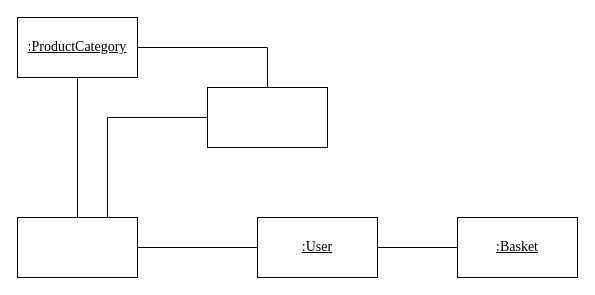
Some shapes in this 595 by 295 pixel diagram are drawn without their labels. Here are the shapes that lost their labels. From the top down, the centre of each, then its label:
(x=267, y=117): :Product
(x=77, y=247): :Admin
